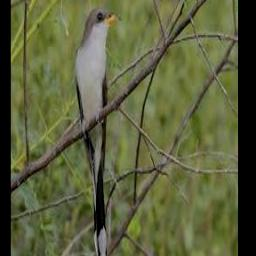Cuckoo: (75, 8, 122, 256)
